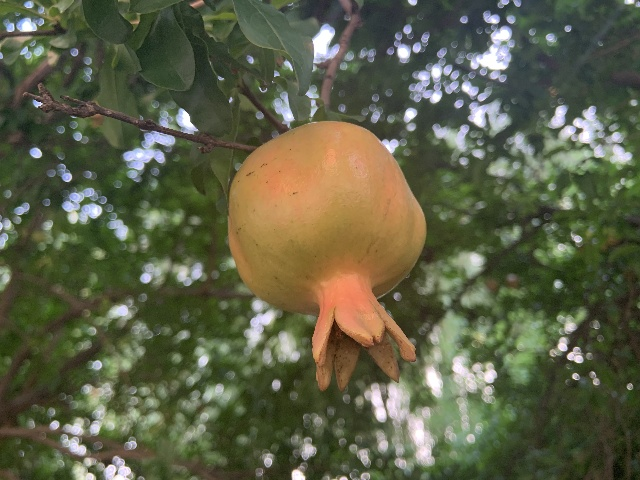mid-growth: (227, 121, 427, 394)
